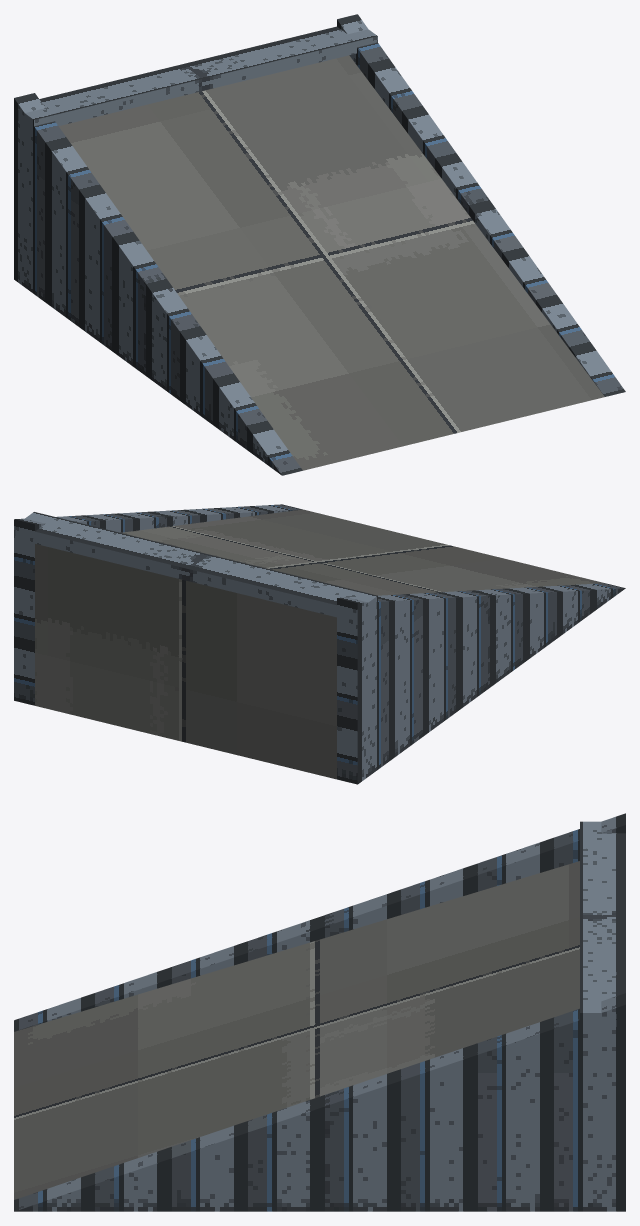
File: arch_ramp.glb
The picture shows the model from 3 angles, top to bottom: view 1: azimuth 30°, elevation 25°; view 2: azimuth 150°, elevation 25°; view 3: azimuth 270°, elevation 25°; orthographic projection. The views are drawn at different scales.
Visible parts, largest first — view 1: arch_ramp; view 2: arch_ramp; view 3: arch_ramp.
Boxes of the visible parts, left/top/right/bottom form: arch_ramp: left=14, top=14, right=625, bottom=475; arch_ramp: left=14, top=504, right=625, bottom=784; arch_ramp: left=14, top=813, right=625, bottom=1211.
Bounding box in the file's own units: 2.96 × 1.49 × 4.
Materials: 4 (4 with a texture image).
